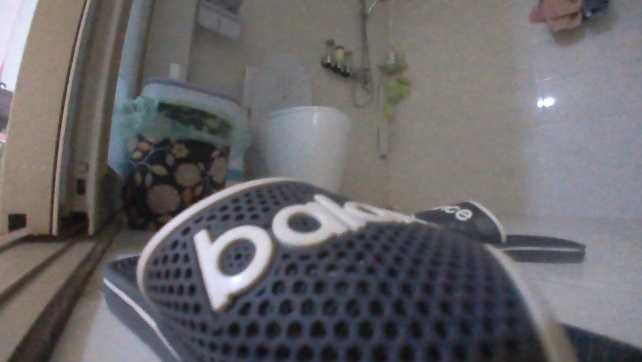door_sill: (0, 233, 106, 360)
slipper: (99, 174, 572, 360), (401, 195, 588, 264)
toilet: (235, 52, 352, 198)
trash_can: (119, 75, 249, 232)
